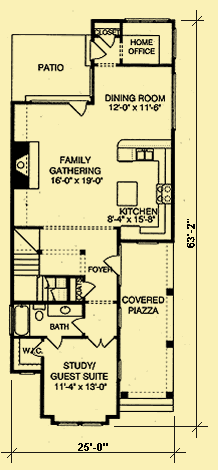door: (89, 39, 109, 62), (103, 252, 121, 275), (66, 101, 89, 118), (42, 336, 66, 352), (86, 336, 115, 348), (68, 315, 84, 335), (81, 280, 97, 297)
large_sink: (30, 304, 49, 322)
small_sink: (47, 304, 82, 317)
stairs: (12, 228, 40, 301)
tub: (13, 303, 29, 336)
window: (54, 418, 104, 428), (170, 29, 179, 58)
